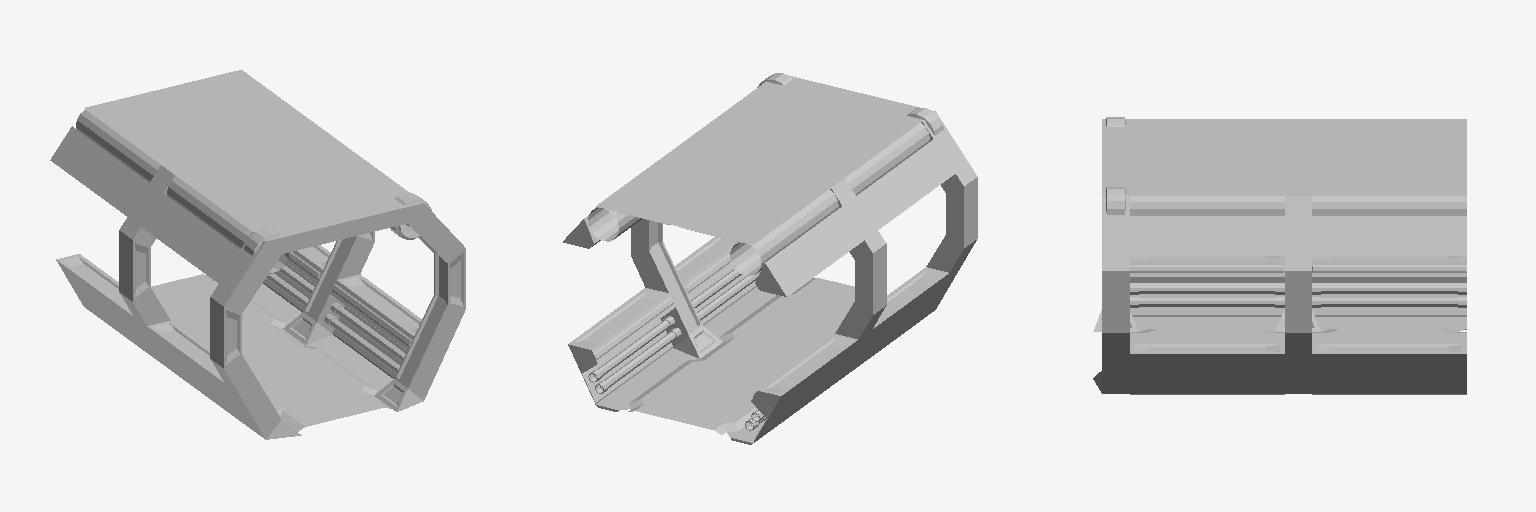
Rendered from corridor.obj.
3 renders of one model, left to right at view 1: azimuth 30°, elevation 25°; view 2: azimuth 150°, elevation 25°; view 3: azimuth 270°, elevation 25°, orthographic.
Parts seen in each view (by area): view 1: pilars_Plane, roof_fill_Plane.010, beam_top_Plane.003, floor_Cube.002, pipes_large_Circle.002, panels_floor_Plane.007, pipes_small_Circle, floor_fill_Plane.009, panel_hand_Plane.018; view 2: roof_fill_Plane.010, beam_top_Plane.003, pilars_Plane, floor_Cube.002, pipes_large_Circle.002, panels_floor_Plane.007, floor_fill_Plane.009, pipes_small_Circle, panel_hand_Plane.018; view 3: beam_top_Plane.003, roof_fill_Plane.010, pilars_Plane, panels_floor_Plane.007, pipes_large_Circle.002, pipes_small_Circle, floor_Cube.002, floor_fill_Plane.009, panel_hand_Plane.018.
Boxes of the visible parts, box(x1,y1,x2,y2) form: pilars_Plane: box(119, 126, 465, 439); roof_fill_Plane.010: box(84, 70, 409, 231); beam_top_Plane.003: box(50, 126, 421, 405); floor_Cube.002: box(151, 274, 390, 431); pipes_large_Circle.002: box(76, 110, 431, 273); panels_floor_Plane.007: box(70, 262, 406, 428); pipes_small_Circle: box(266, 266, 405, 373); floor_fill_Plane.009: box(87, 283, 393, 429); panel_hand_Plane.018: box(289, 252, 411, 346); roof_fill_Plane.010: box(596, 83, 921, 244); beam_top_Plane.003: box(563, 139, 955, 419); pilars_Plane: box(631, 76, 977, 384); floor_Cube.002: box(619, 278, 854, 436); pipes_large_Circle.002: box(588, 73, 943, 275); panels_floor_Plane.007: box(582, 266, 934, 442); floor_fill_Plane.009: box(596, 287, 914, 444); pipes_small_Circle: box(588, 269, 765, 430); panel_hand_Plane.018: box(593, 254, 755, 396); beam_top_Plane.003: box(1130, 216, 1466, 373); roof_fill_Plane.010: box(1130, 119, 1466, 195); pilars_Plane: box(1093, 119, 1320, 393); panels_floor_Plane.007: box(1130, 283, 1466, 393); pipes_large_Circle.002: box(1106, 117, 1466, 215); pipes_small_Circle: box(1130, 284, 1466, 307); floor_Cube.002: box(1130, 329, 1466, 341); floor_fill_Plane.009: box(1130, 317, 1466, 394); panel_hand_Plane.018: box(1130, 265, 1466, 272).
Size of the model in its own units: 3.06 by 2.47 by 4.1.